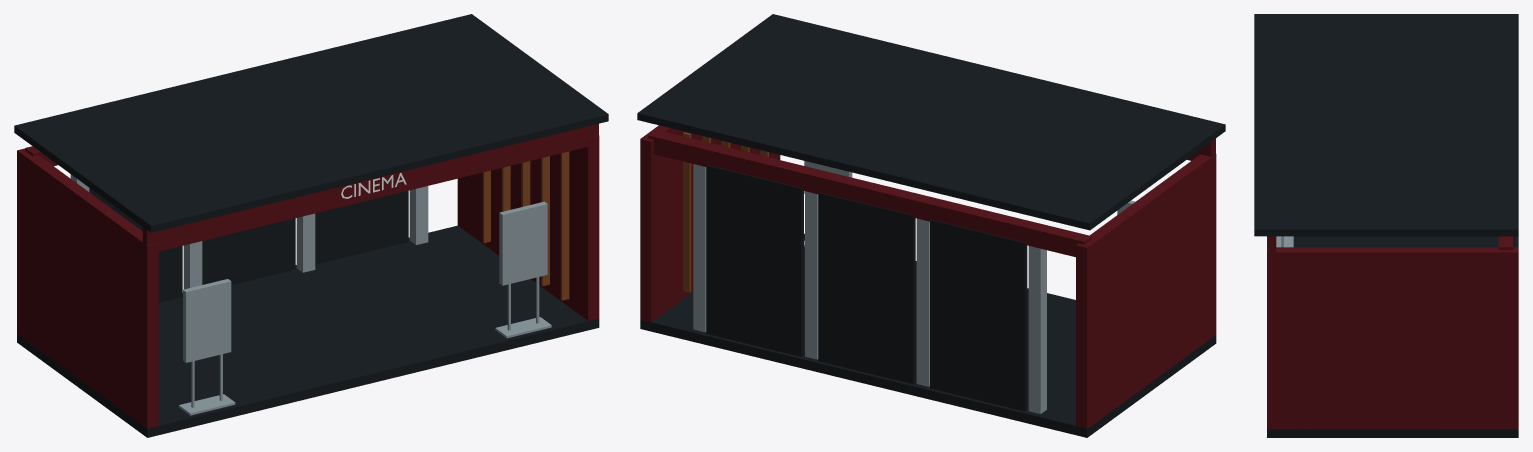
Rendered from edited.glb.
The picture shows the model from 3 angles, left to right: view 1: azimuth 30°, elevation 25°; view 2: azimuth 150°, elevation 25°; view 3: azimuth 270°, elevation 25°; orthographic projection. The views are drawn at different scales.
Parts seen in each view (by area): view 1: CANOPY, FLOOR, SIDE_Wall, SIDE_Wall.001, SIGN_Header, DOOR_Recess.002, DOOR_Recess.001, POSTER_BlankFrame.001, POSTER_BlankFrame, DOOR_Recess, ACOUSTIC_Fin.006, ENTRY_Pier.002 (+6 smaller); view 2: CANOPY, SIDE_Wall, DOOR_Recess.002, DOOR_Recess, DOOR_Recess.001, FLOOR, ENTRY_Header, SIDE_Wall.001, ENTRY_Pier, ENTRY_Pier.002, ENTRY_Pier.003, ENTRY_Pier.001 (+1 smaller); view 3: CANOPY, SIDE_Wall.001, FLOOR.
Boxes of the visible parts, x1=… form: CANOPY: x1=14, y1=14, x2=608, y2=232; FLOOR: x1=17, y1=225, x2=599, y2=437; SIDE_Wall: x1=17, y1=148, x2=158, y2=428; SIDE_Wall.001: x1=457, y1=135, x2=599, y2=320; SIGN_Header: x1=142, y1=123, x2=598, y2=252; DOOR_Recess.002: x1=315, y1=190, x2=408, y2=264; DOOR_Recess.001: x1=202, y1=218, x2=295, y2=284; POSTER_BlankFrame.001: x1=499, y1=201, x2=547, y2=285; POSTER_BlankFrame: x1=183, y1=279, x2=231, y2=362; DOOR_Recess: x1=89, y1=188, x2=182, y2=302; ACOUSTIC_Fin.006: x1=560, y1=151, x2=569, y2=300; ENTRY_Pier.002: x1=296, y1=213, x2=315, y2=272; CANOPY: x1=637, y1=14, x2=1225, y2=230; SIDE_Wall: x1=1076, y1=154, x2=1216, y2=428; DOOR_Recess.002: x1=706, y1=165, x2=803, y2=356; DOOR_Recess: x1=930, y1=219, x2=1027, y2=411; DOOR_Recess.001: x1=818, y1=192, x2=915, y2=383; FLOOR: x1=640, y1=233, x2=1216, y2=437; ENTRY_Header: x1=648, y1=130, x2=1091, y2=257; SIDE_Wall.001: x1=640, y1=125, x2=780, y2=322; ENTRY_Pier: x1=1028, y1=246, x2=1046, y2=413; ENTRY_Pier.002: x1=805, y1=191, x2=818, y2=359; ENTRY_Pier.003: x1=693, y1=164, x2=706, y2=332; ENTRY_Pier.001: x1=916, y1=218, x2=929, y2=386; CANOPY: x1=1254, y1=14, x2=1518, y2=236; SIDE_Wall.001: x1=1267, y1=247, x2=1518, y2=429; FLOOR: x1=1267, y1=236, x2=1518, y2=437.
Size of the model in its own units: 8.1 by 3.68 by 4.2.
